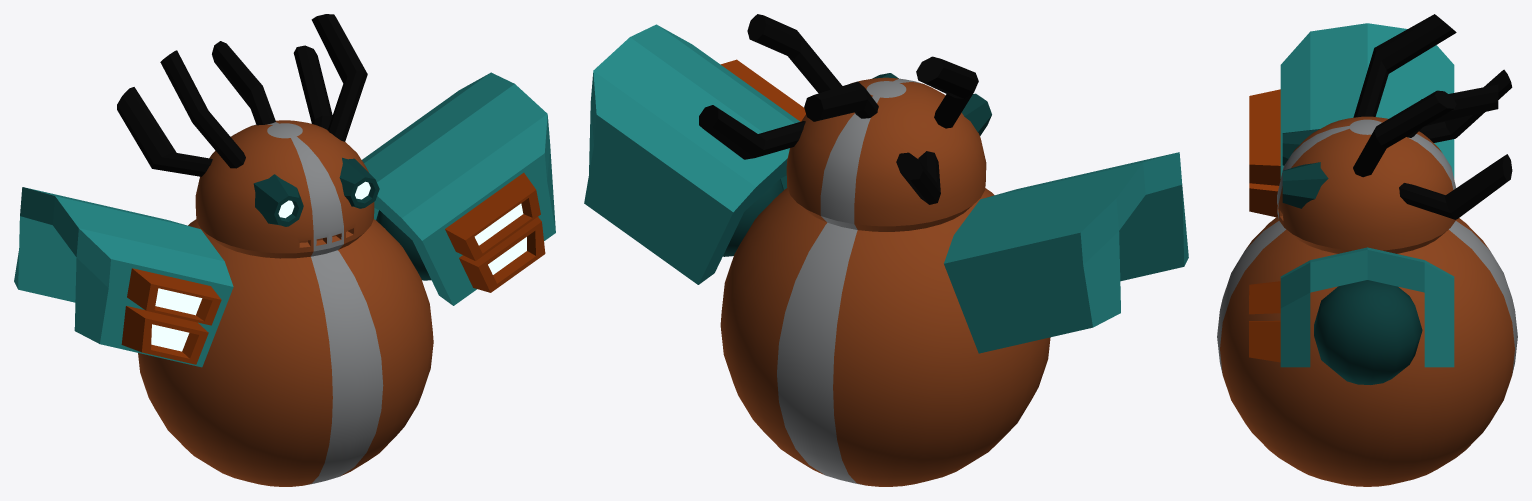
File: Kolijuns Game Scenes.fbx
3 views of the same model, side by side, from view 1: azimuth 30°, elevation 25°; view 2: azimuth 150°, elevation 25°; view 3: azimuth 270°, elevation 25° (orthographic). The views are drawn at different scales.
Parts seen in each view (by area): view 1: ShoulderPAds, Body, Head; view 2: ShoulderPAds, Body, Head; view 3: Body, ShoulderPAds, Head.
Part boxes in pixels (x1,y1,x2,y2): ShoulderPAds: (14, 72, 555, 367); Body: (138, 219, 433, 486); Head: (117, 14, 379, 258); ShoulderPAds: (584, 24, 1188, 353); Body: (720, 188, 1050, 486); Head: (699, 14, 991, 231); Body: (1217, 216, 1517, 486); ShoulderPAds: (1249, 23, 1454, 384); Head: (1277, 14, 1512, 253).
Bounding box in the file's own units: 1469 × 1223 × 794.
